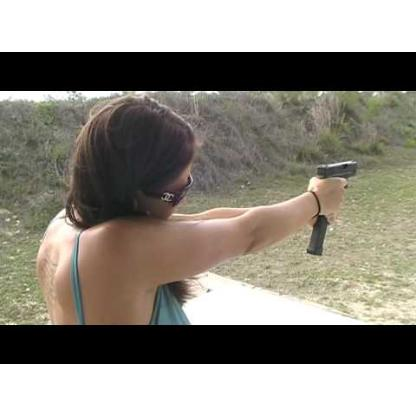gun: (310, 160, 354, 260)
